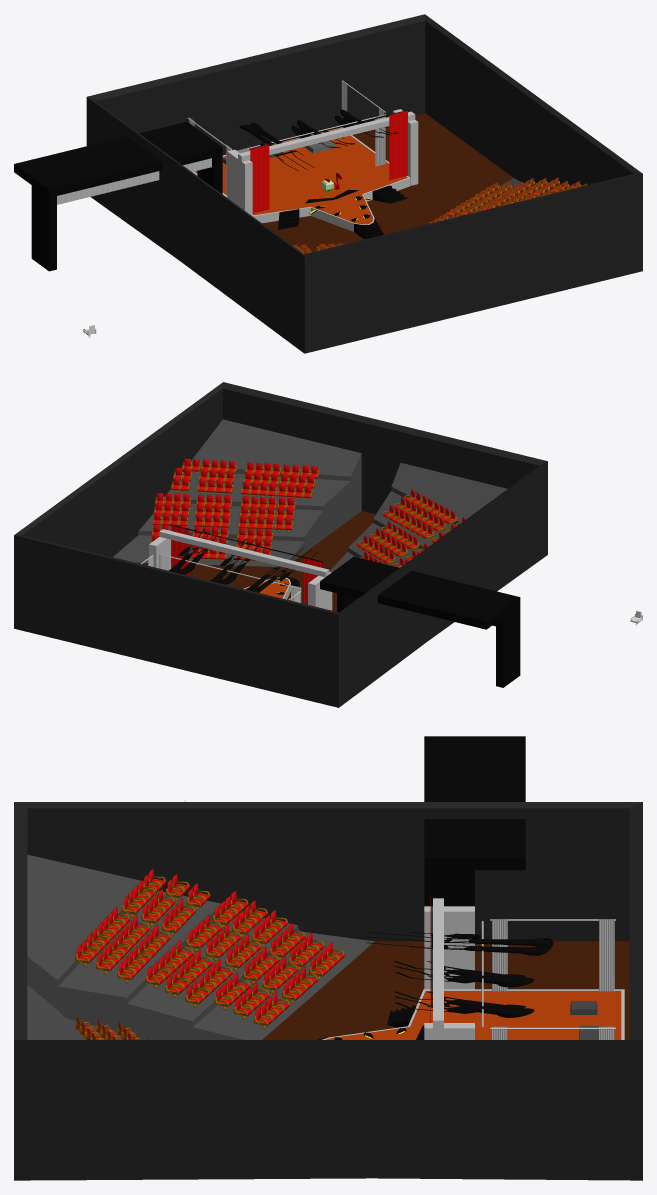
File: Stage Room and Chairs.fbx
3 views of the same model, one above another, from view 1: azimuth 30°, elevation 25°; view 2: azimuth 150°, elevation 25°; view 3: azimuth 270°, elevation 25° (orthographic). The views are drawn at different scales.
Visible parts, largest first — view 1: Cube, StageWalls and Roof, Stage, StageWalls and Frame, Chair, Curtains.002, Curtain.002, Curtains.001; view 2: Cube, Chair, StageWalls and Roof, StageWalls and Frame, Curtains.002; view 3: Cube, Chair, StageWalls and Roof, Stage, StageWalls and Frame, BackCurtain.001, BackCurtain.002, SpotLight.003, SpotLight.002.
Boxes of the visible parts, x1=… form: Cube: x1=86, y1=14, x2=642, y2=353; StageWalls and Roof: x1=14, y1=121, x2=222, y2=271; Stage: x1=192, y1=127, x2=410, y2=231; StageWalls and Frame: x1=227, y1=109, x2=418, y2=215; Chair: x1=292, y1=177, x2=587, y2=254; Curtains.002: x1=389, y1=110, x2=407, y2=180; Curtain.002: x1=57, y1=158, x2=211, y2=204; Curtains.001: x1=250, y1=144, x2=269, y2=213; Cube: x1=14, y1=382, x2=547, y2=707; Chair: x1=148, y1=458, x2=466, y2=567; StageWalls and Roof: x1=320, y1=556, x2=520, y2=687; StageWalls and Frame: x1=149, y1=529, x2=332, y2=610; Curtains.002: x1=171, y1=524, x2=189, y2=575; Cube: x1=14, y1=802, x2=642, y2=1180; Chair: x1=75, y1=869, x2=344, y2=1039; StageWalls and Roof: x1=424, y1=736, x2=525, y2=906; Stage: x1=322, y1=989, x2=624, y2=1039; StageWalls and Frame: x1=424, y1=898, x2=474, y2=1039; BackCurtain.001: x1=599, y1=919, x2=614, y2=991; BackCurtain.002: x1=492, y1=919, x2=507, y2=991; SpotLight.003: x1=444, y1=938, x2=553, y2=946; SpotLight.002: x1=444, y1=945, x2=551, y2=955.
Size of the model in its own units: 12687 by 2377 by 9648.
